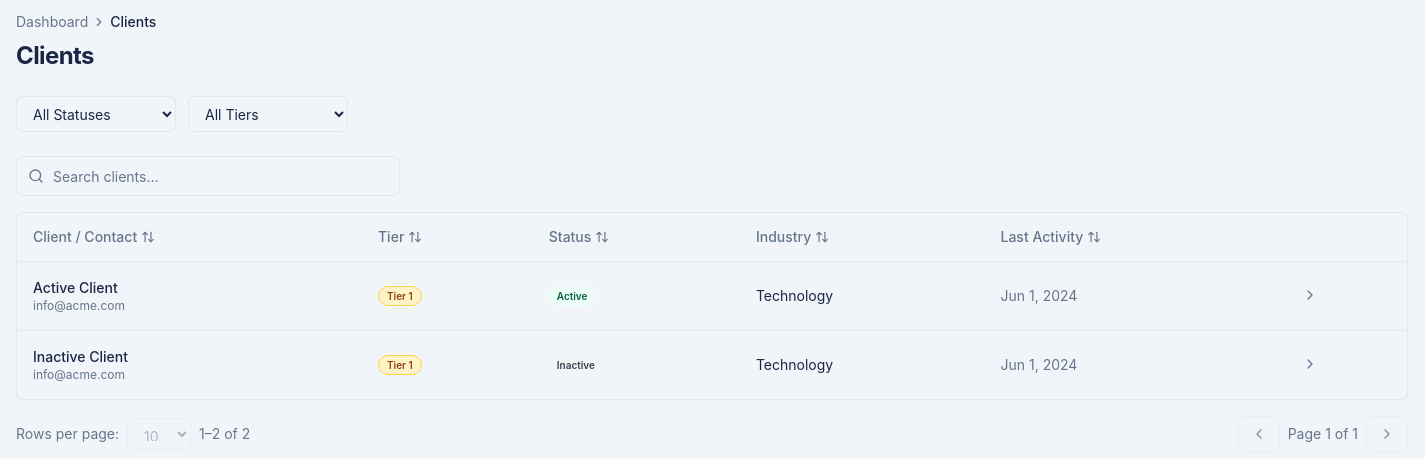
Scenario: ClientsView › filters by status when status dropdown changes
Select "Active" in the dropdown named "Filter by status" at {"x": 96, "y": 114}, box [16, 96, 176, 132]
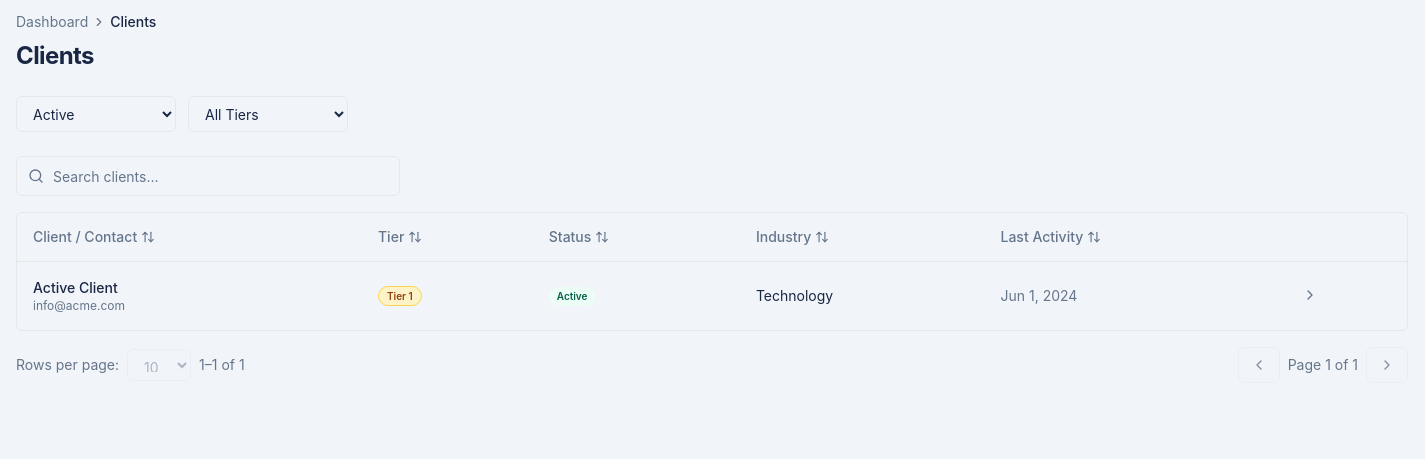
Check: the text "Active Client" is shown, box [33, 278, 118, 296]
Check: the text "Inactive Client" is gone
